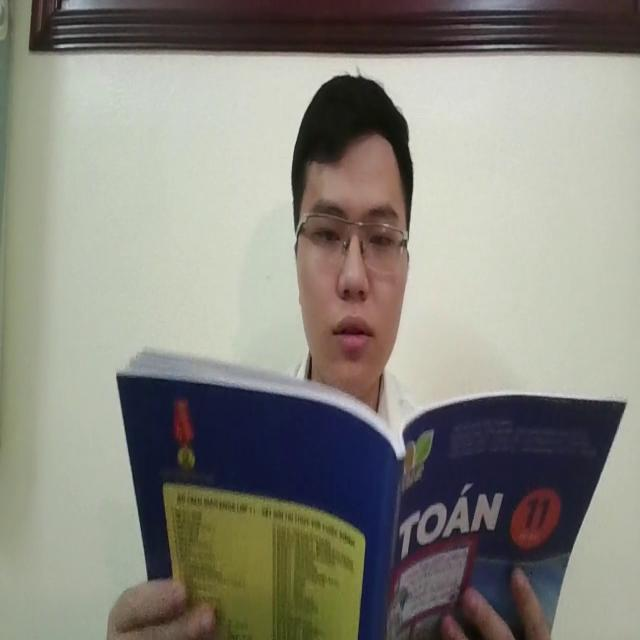book: (120, 341, 628, 640)
student: (288, 76, 417, 400)
